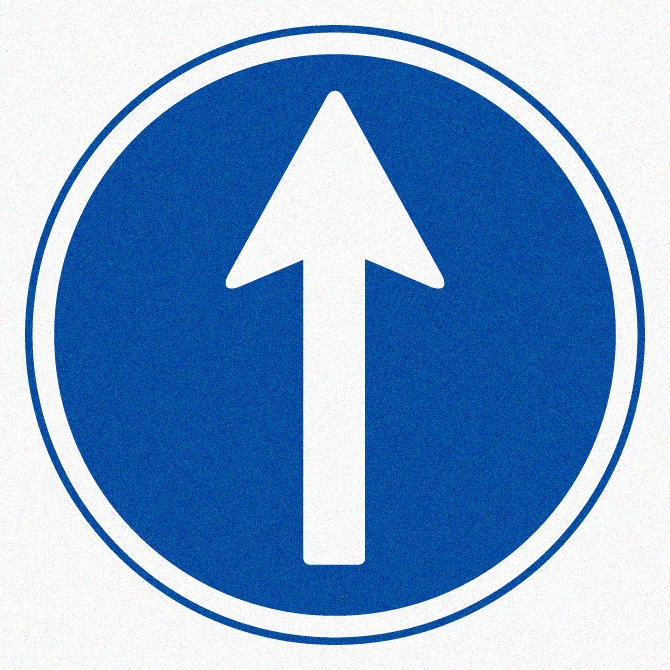Direction_sign: (19, 33, 639, 651)
